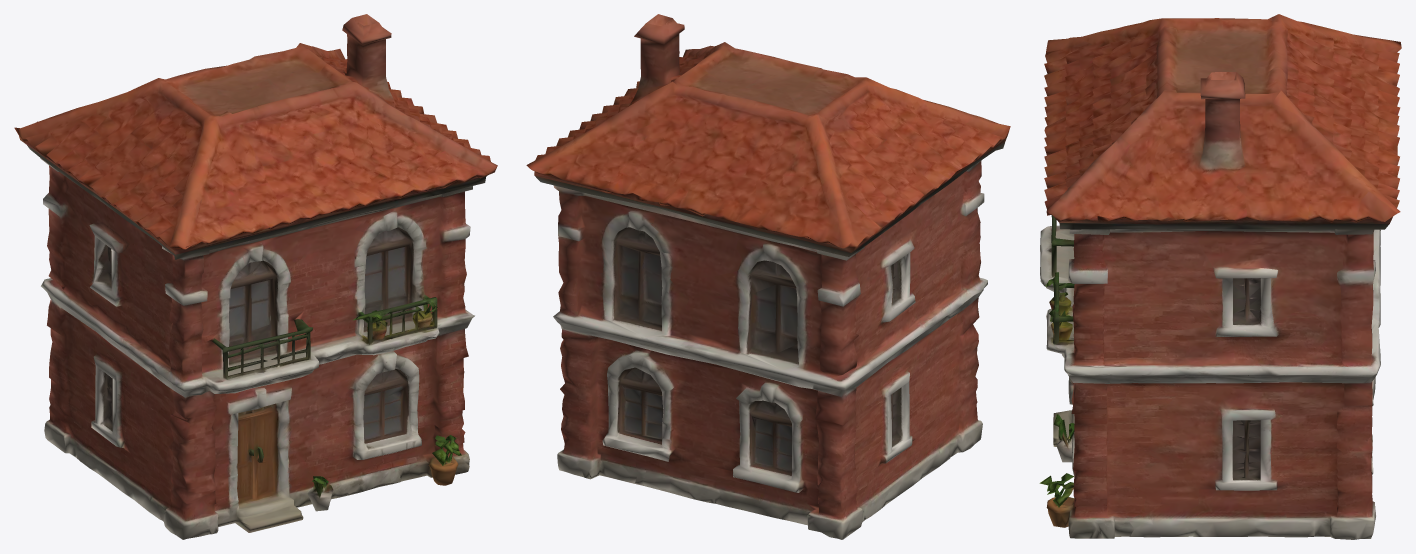
Rendered from bologna_house_c.glb.
3 renders of one model, left to right at view 1: azimuth 30°, elevation 25°; view 2: azimuth 150°, elevation 25°; view 3: azimuth 270°, elevation 25°, orthographic. The views are drawn at different scales.
Parts seen in each view (by area): view 1: tripo_node_86090c44-7cf8-42d7-83d8-186b8a2834be; view 2: tripo_node_86090c44-7cf8-42d7-83d8-186b8a2834be; view 3: tripo_node_86090c44-7cf8-42d7-83d8-186b8a2834be.
Part boxes in pixels (x1,y1,x2,y2): tripo_node_86090c44-7cf8-42d7-83d8-186b8a2834be: (14,14,497,539); tripo_node_86090c44-7cf8-42d7-83d8-186b8a2834be: (526,14,1010,539); tripo_node_86090c44-7cf8-42d7-83d8-186b8a2834be: (1039,14,1401,539).
Bounding box in the file's own units: 6.78 × 8 × 5.89.
1 material, 1 textured.
